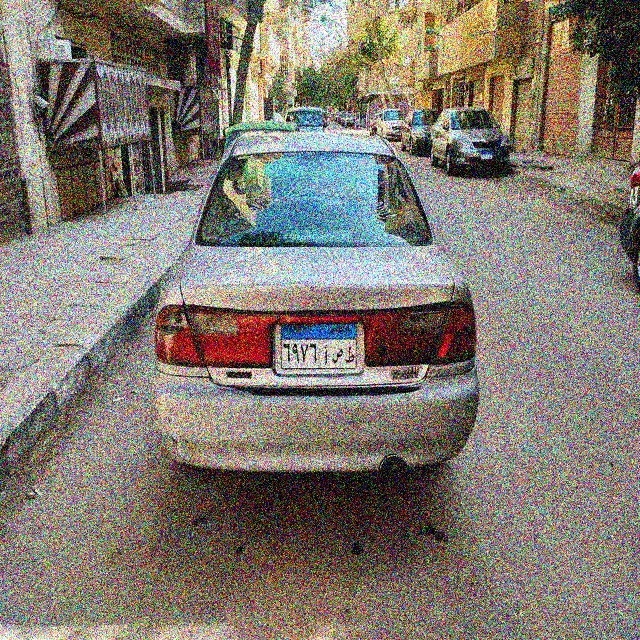License Plate: (279, 321, 359, 371)
